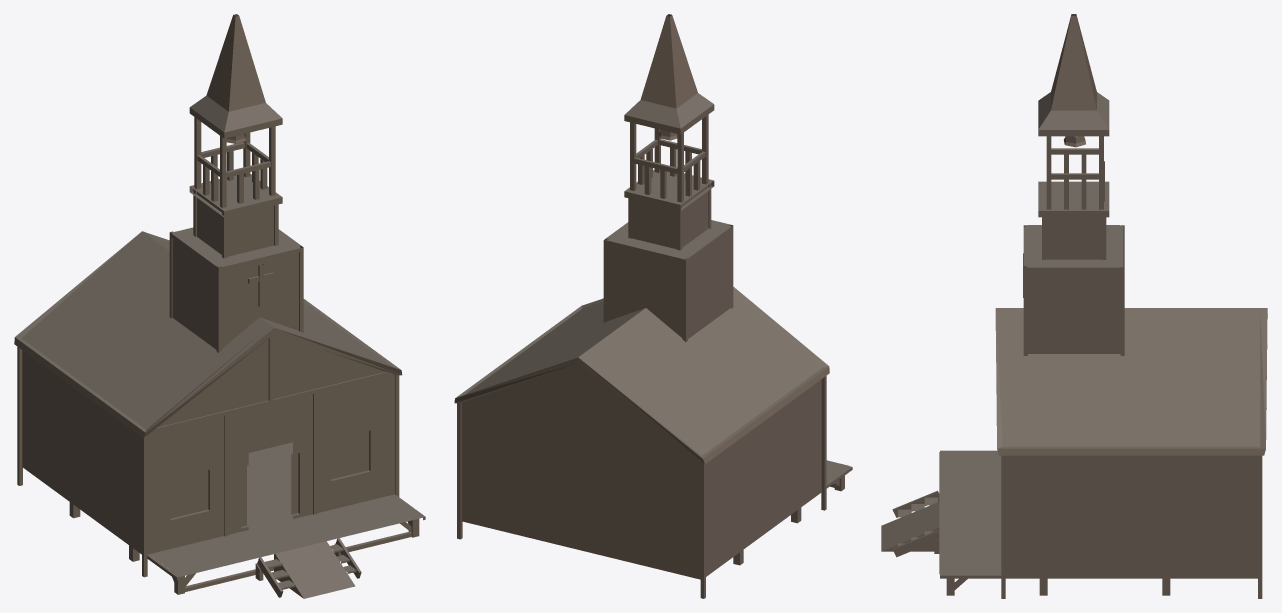
The model's file is church.zfix-v21.lod2.glb.
3 renders of one model, left to right at view 1: azimuth 30°, elevation 25°; view 2: azimuth 150°, elevation 25°; view 3: azimuth 270°, elevation 25°, orthographic. The views are drawn at different scales.
Visible parts, largest first — view 1: church; view 2: church; view 3: church.
Part boxes in pixels (x1=…): church: x1=14, y1=14, x2=425, y2=598; church: x1=454, y1=14, x2=852, y2=598; church: x1=881, y1=14, x2=1267, y2=598.
Size of the model in its own units: 8.52 by 16 by 10.69.
